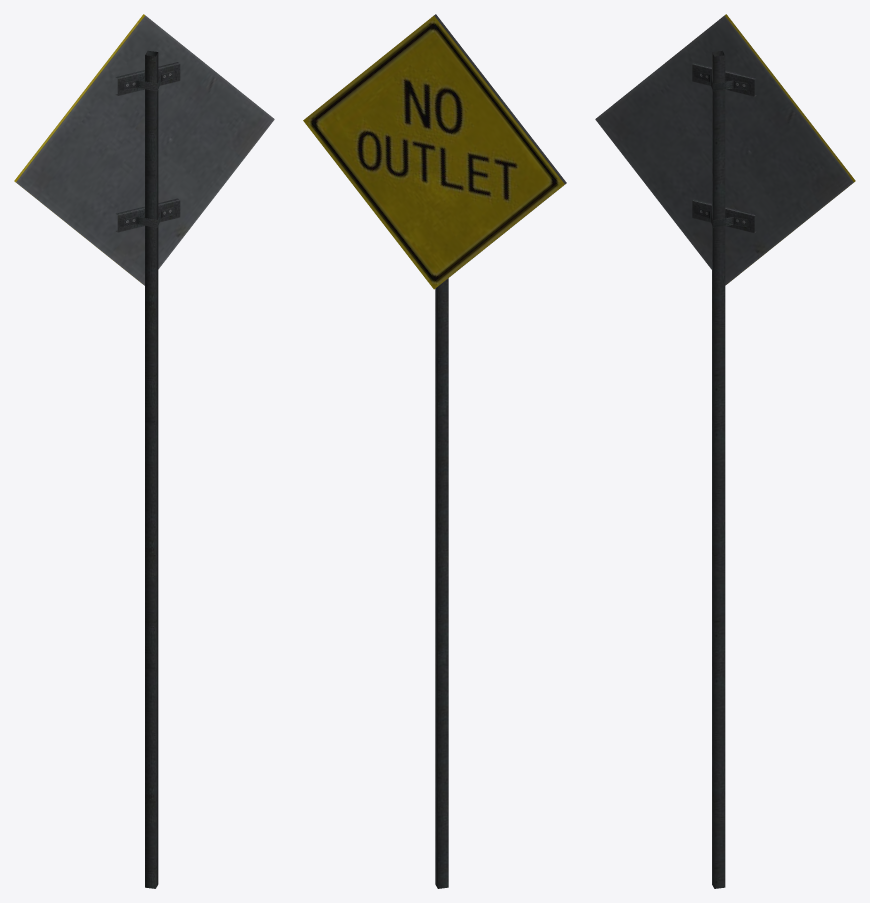
The model's file is No_Outlet.glb.
3 renders of one model, left to right at view 1: azimuth 30°, elevation 25°; view 2: azimuth 150°, elevation 25°; view 3: azimuth 330°, elevation 25°, orthographic.
Visible parts, largest first — view 1: No_Outlet__LOD1; view 2: No_Outlet__LOD1; view 3: No_Outlet__LOD1.
Part boxes in pixels (x1,y1,x2,y2): No_Outlet__LOD1: (14,14,274,888); No_Outlet__LOD1: (303,14,566,888); No_Outlet__LOD1: (595,14,855,888).
Bounding box in the file's own units: 0.9743 × 3.11 × 0.0893.
1 material, 1 textured.
